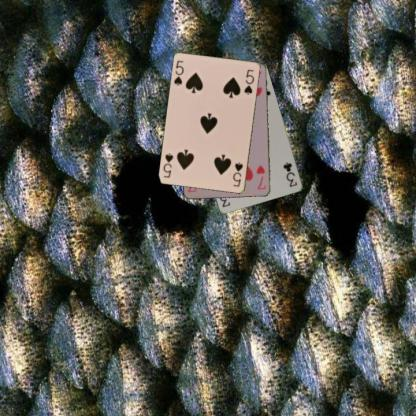3c: (281, 160, 299, 188)
5s: (230, 160, 245, 188), (171, 58, 185, 87)
7h: (254, 163, 267, 191)
